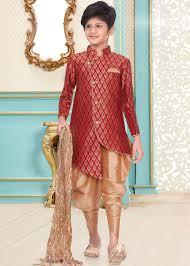Human: (43, 5, 155, 260)
